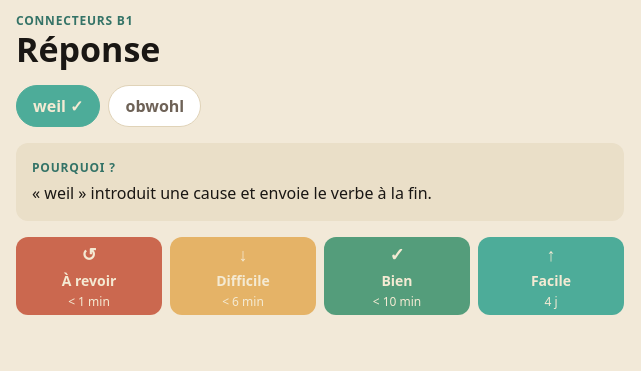
Test: RevealScreen › S13 Task 7 (S10-T5): surfaces a rate-submit failure and re-enables the four difficulty buttons
Expected: the element with test id "srs-reveal-difficulty" is shown, [16,237,624,315]
Click the button "✓ Bien < 10 min" at (397, 276), box [324,237,470,315]
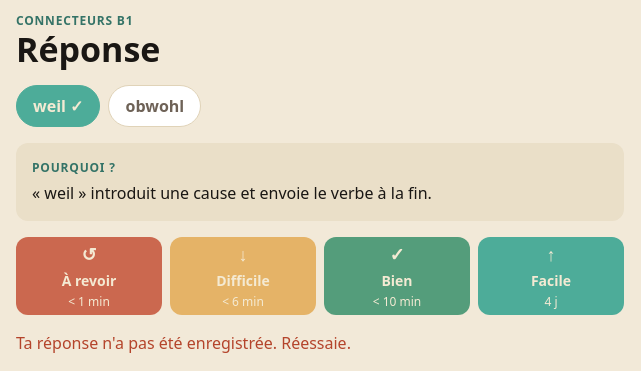
Expected: the button "↺ À revoir < 1 min" is enabled, [16,237,162,315]
Result: the message "Ta réponse n'a pas été enregistrée. Réessaie." is shown at [16,332,351,354]
